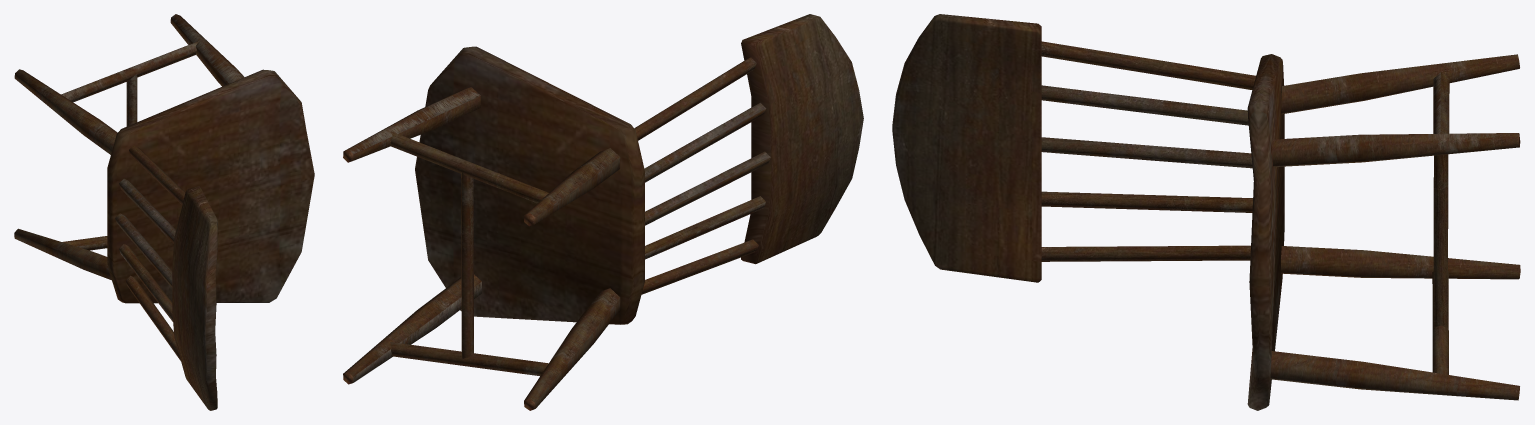
Rendered from furniture_plainchair.glb.
3 views of the same model, side by side, from view 1: azimuth 30°, elevation 25°; view 2: azimuth 150°, elevation 25°; view 3: azimuth 270°, elevation 25° (orthographic). The views are drawn at different scales.
Bounding box in the file's own units: 27.94 × 25.02 × 46.58.
1 material, 1 textured.
